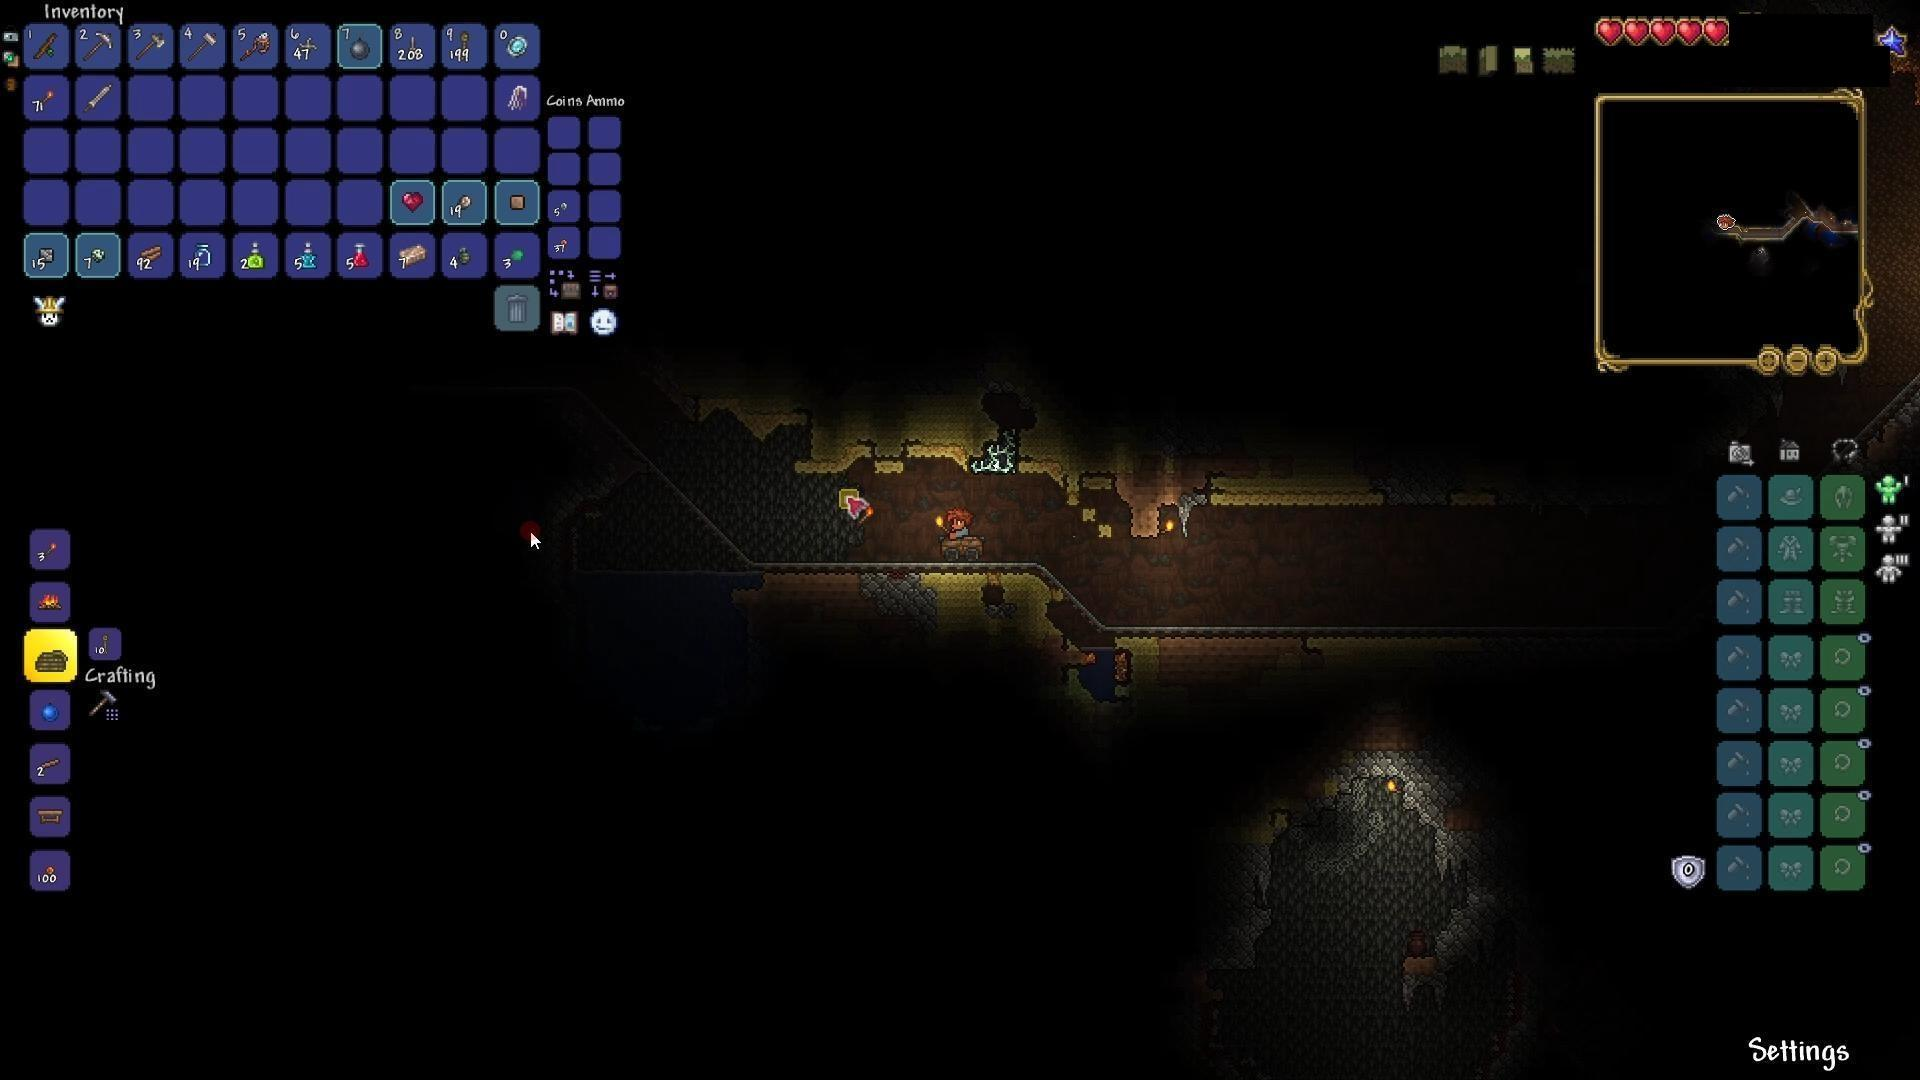heart: (1702, 17, 1733, 51), (1593, 16, 1626, 46), (1676, 15, 1704, 50), (1650, 16, 1676, 49), (1625, 15, 1651, 44)
sand: (696, 388, 815, 448), (1211, 472, 1379, 508), (876, 430, 968, 473), (793, 435, 876, 479), (918, 567, 1040, 596), (1015, 447, 1069, 477), (1116, 629, 1160, 650)
stone: (1195, 843, 1300, 960), (1365, 745, 1462, 862), (864, 564, 931, 626), (1437, 899, 1495, 971)
